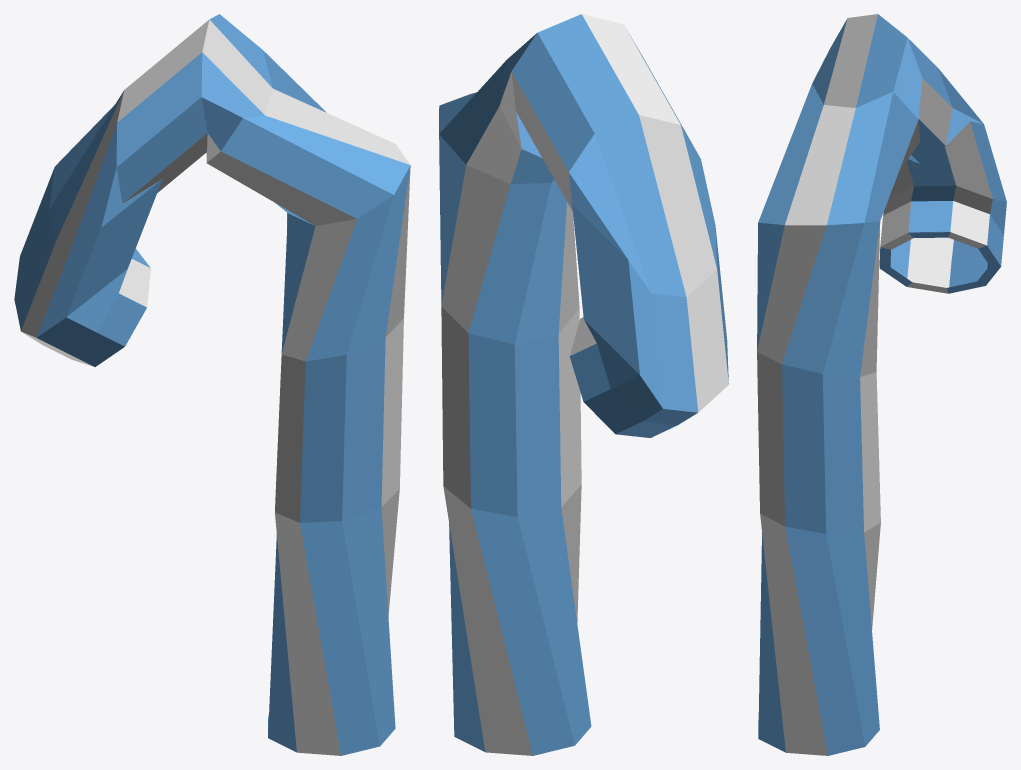
Rendered from straw.fbx.
3 renders of one model, left to right at view 1: azimuth 30°, elevation 25°; view 2: azimuth 150°, elevation 25°; view 3: azimuth 270°, elevation 25°, orthographic. The views are drawn at different scales.
Visible parts, largest first — view 1: Cylinder; view 2: Cylinder; view 3: Cylinder.
Part boxes in pixels (x1,y1,x2,y2): Cylinder: (14,14,410,755); Cylinder: (439,14,728,755); Cylinder: (757,14,1006,755).
Size of the model in its own units: 552 by 1187 by 399.
